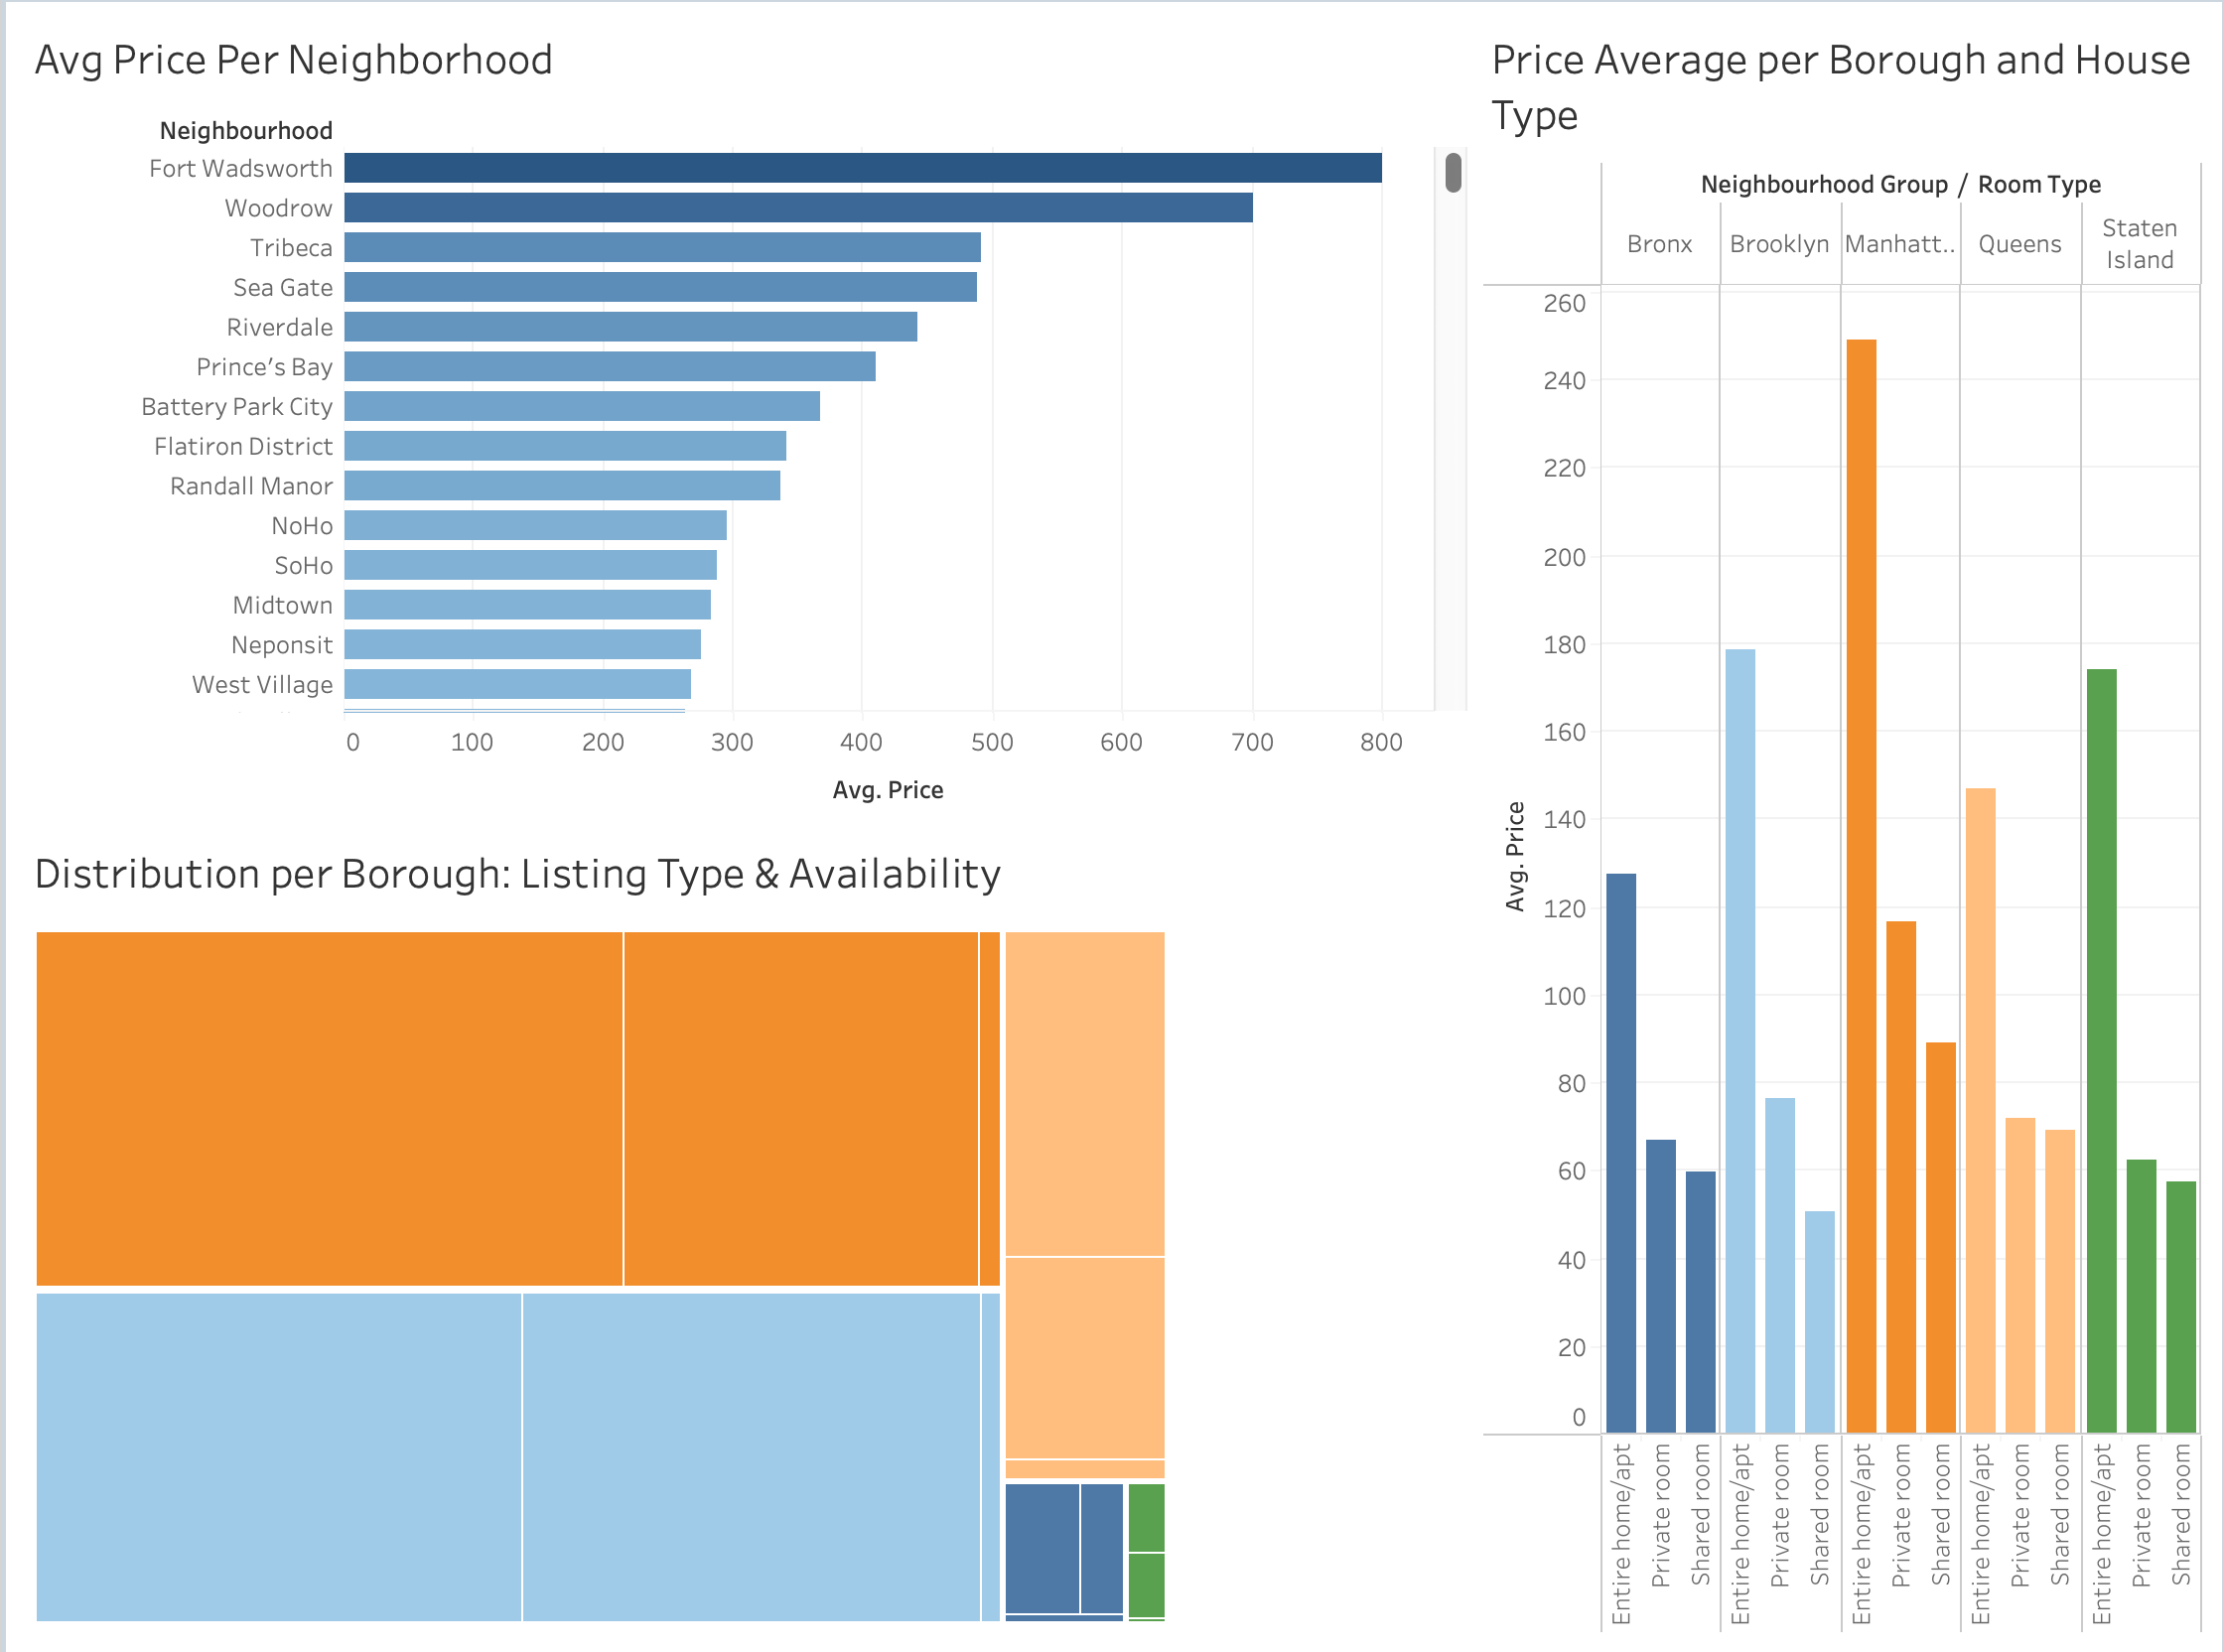

The page's visual inventory and layout, read from the dashboard file:
{"tool":"tableau","page":{"name":"Dashboard 1","canvas":[1000,1000],"units":"permille","ordinal":0},"visuals":[{"type":"worksheet","title":"Sheet 1","mark":"Automatic","rows":["neighbourhood"],"cols":["price"],"box":[7.1,9.6,655.4,490.4]},{"type":"worksheet","title":"Sheet 3","mark":"Automatic","rows":["price"],"cols":["neighbourhood_group","room_type"],"box":[662.5,9.6,330.3,980.9]},{"type":"worksheet","title":"Sheet 2","mark":"Automatic","box":[7.1,500,655.4,490.4]}]}

Visuals, with their boxes on the dashboard's canvas, which has no fixed pixel size, in thousandths of its width and height (x1, y1, x2, y2). These are canvas units, not pixel positions in the 2224x1652 screenshot, which may show the page scaled, cropped or inside an application window:
"Sheet 1" worksheet: [7, 10, 662, 500]
"Sheet 3" worksheet: [662, 10, 993, 990]
"Sheet 2" worksheet: [7, 500, 662, 990]
